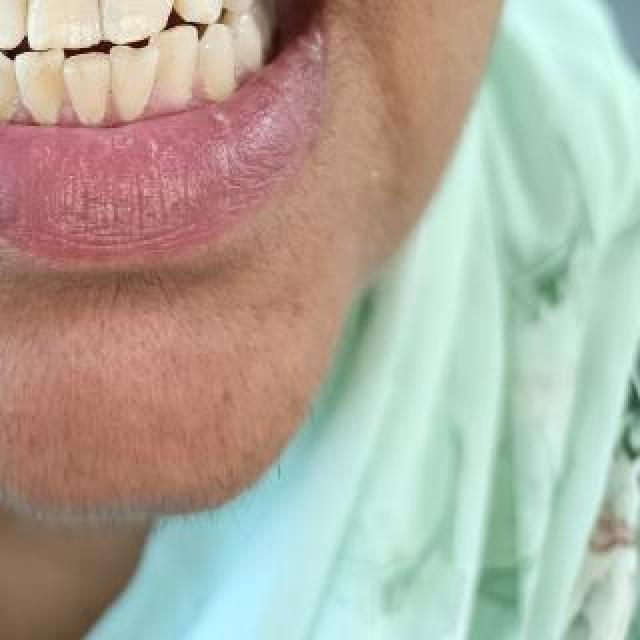maligned: (12, 44, 74, 134), (143, 22, 199, 114), (108, 40, 164, 118), (63, 47, 117, 123), (193, 13, 235, 97), (0, 44, 22, 122)
plaque: (18, 69, 68, 129), (63, 85, 105, 135), (116, 72, 152, 122), (0, 82, 28, 130)
